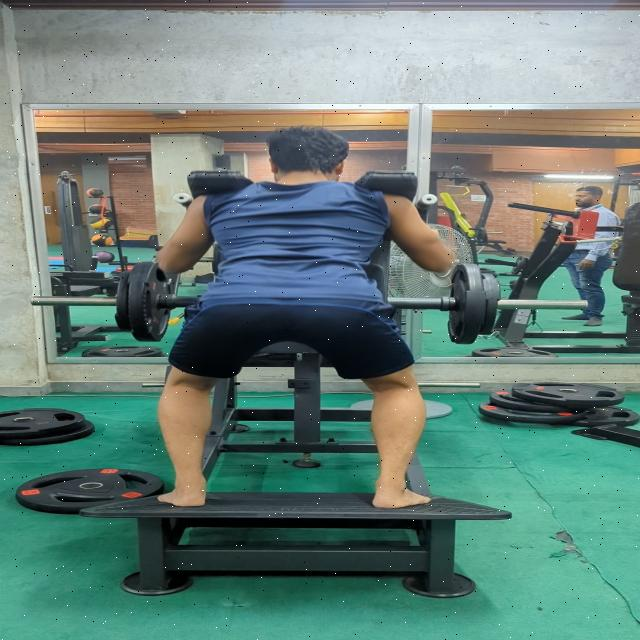Normal_SquatsWithBarbell: (140, 107, 454, 520)
